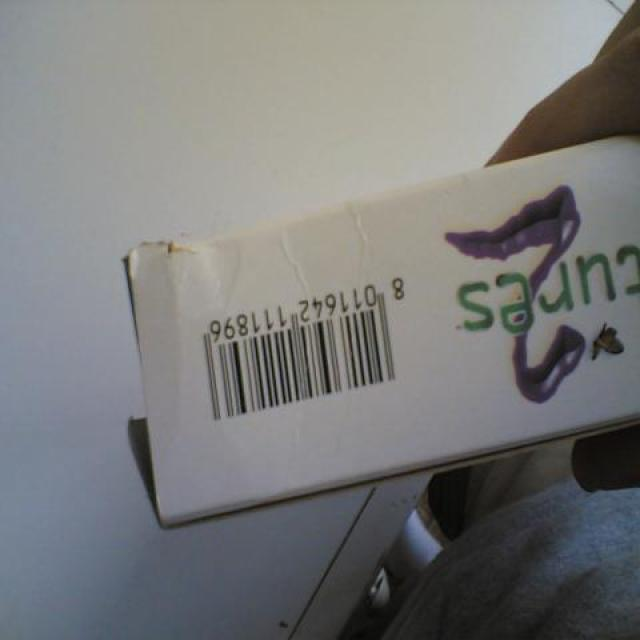Barcode: (183, 262, 433, 438)
